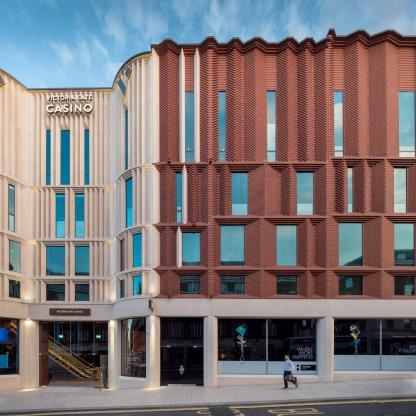Building Outline: (0, 27, 416, 392)
Door: (38, 353, 108, 392), (160, 346, 204, 386)
Facade: (1, 27, 416, 391)
Glass Wall: (9, 185, 15, 232)
Shop: (217, 318, 316, 374), (335, 319, 416, 370), (40, 320, 108, 354), (121, 317, 146, 378), (160, 317, 204, 346), (0, 318, 19, 375), (46, 95, 93, 114), (50, 309, 90, 316)
Window: (399, 91, 416, 157), (221, 225, 246, 266), (339, 223, 362, 266), (394, 223, 415, 266), (276, 225, 297, 266), (297, 172, 314, 215), (232, 173, 248, 214), (185, 92, 194, 162), (181, 234, 200, 266), (395, 167, 408, 212), (335, 92, 344, 156), (46, 247, 65, 276), (221, 275, 246, 295), (268, 91, 275, 161), (61, 130, 70, 184), (75, 247, 90, 276), (339, 276, 363, 294), (220, 91, 226, 161), (180, 275, 201, 294), (75, 194, 84, 238), (56, 195, 65, 238), (276, 276, 297, 294), (394, 277, 415, 295), (9, 240, 20, 273), (45, 284, 64, 301), (133, 233, 142, 267), (126, 178, 132, 228), (84, 130, 89, 184), (176, 173, 181, 222), (8, 279, 20, 298), (75, 284, 89, 300), (46, 130, 50, 185), (348, 168, 353, 212), (120, 238, 125, 272), (133, 275, 141, 295), (126, 111, 128, 170), (120, 279, 124, 298)
